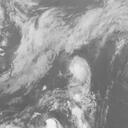cyclone: (68, 54, 92, 87)
